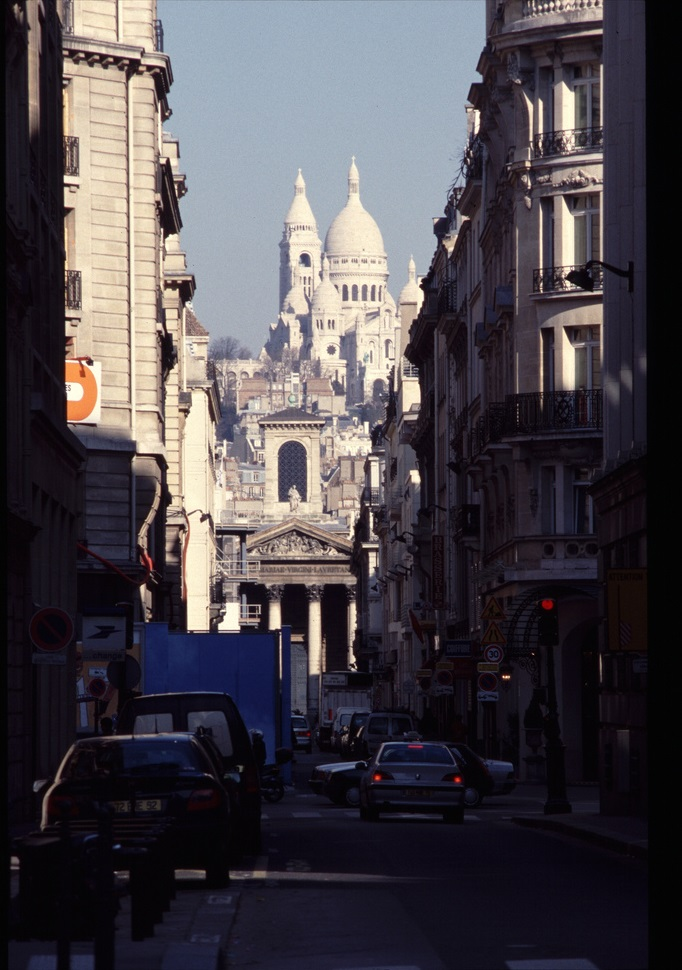car: (359, 735, 471, 822)
